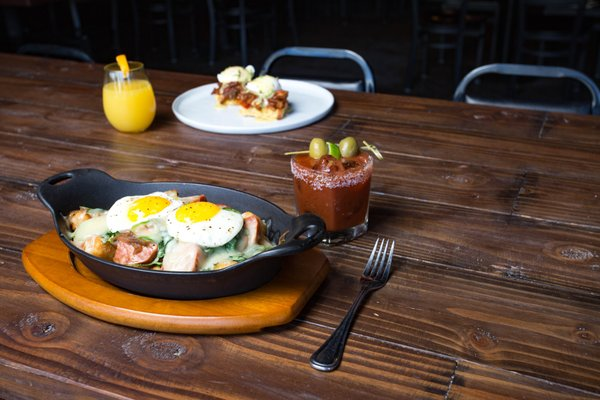sushi: (36, 166, 327, 299)
